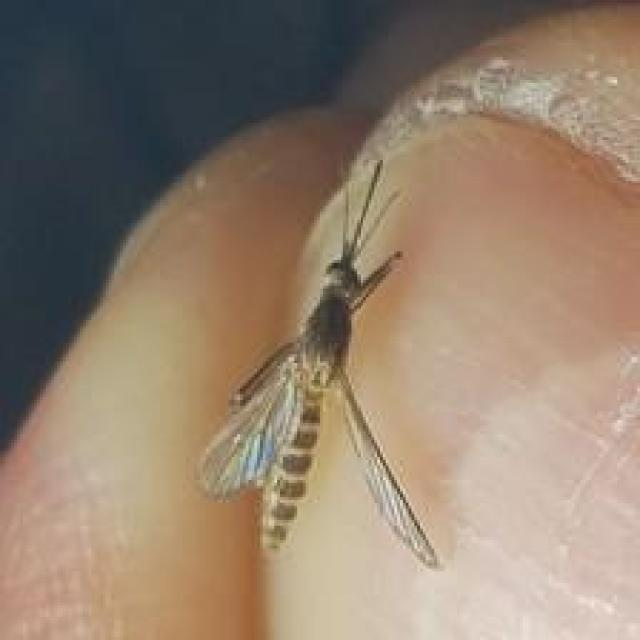Culex: (193, 156, 441, 570)
